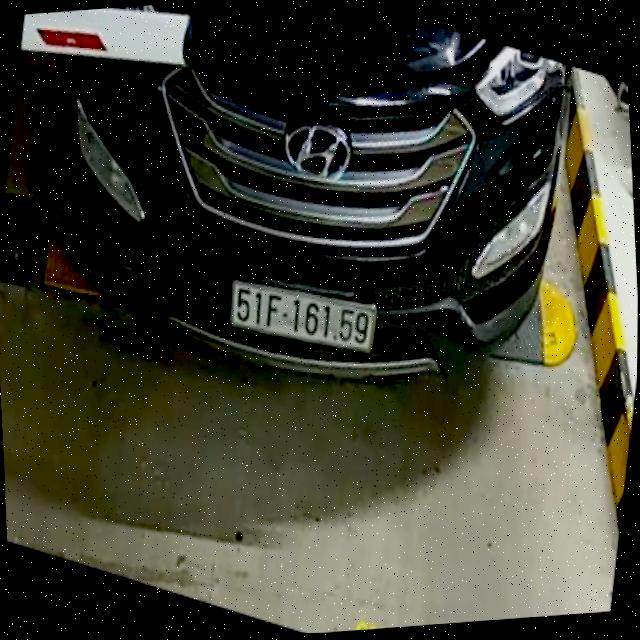car: (48, 0, 590, 411)
plate: (222, 265, 380, 371)
